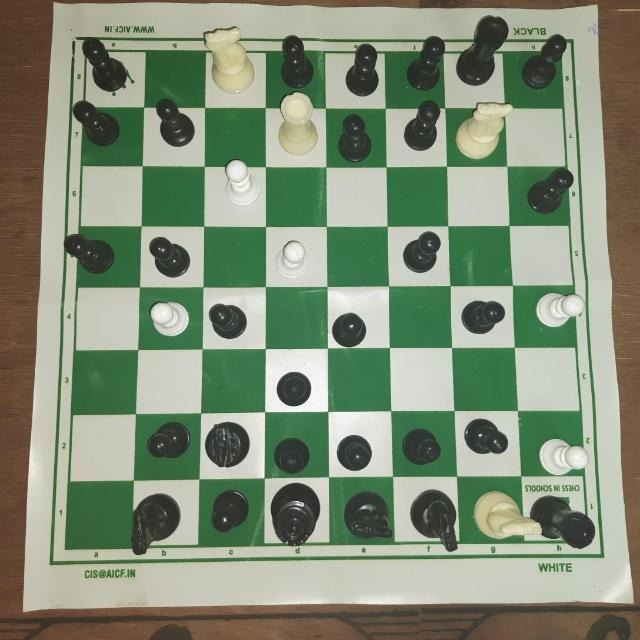black-knight: (124, 492, 182, 555), (407, 488, 462, 552), (343, 490, 397, 542), (203, 420, 250, 467)
black-pawn: (76, 37, 133, 94), (522, 36, 567, 107), (344, 40, 391, 102), (149, 98, 194, 160), (276, 30, 320, 87), (523, 166, 574, 215), (74, 98, 122, 149), (149, 232, 199, 279), (407, 33, 447, 91), (63, 230, 115, 274), (460, 419, 511, 463), (407, 101, 445, 157), (335, 114, 377, 164), (206, 491, 253, 535), (400, 426, 449, 468), (146, 420, 193, 462), (460, 296, 502, 340), (275, 371, 323, 409), (207, 298, 251, 339), (272, 437, 320, 474), (402, 230, 442, 274), (337, 428, 377, 472), (330, 308, 371, 348)
black-queen: (268, 482, 325, 552)
black-rook: (529, 491, 599, 566), (452, 15, 509, 90)
white-knight: (453, 95, 509, 165), (201, 26, 251, 98), (471, 489, 542, 539)
white-pawn: (531, 292, 587, 340), (540, 431, 588, 479), (219, 159, 263, 209), (148, 295, 190, 339), (273, 235, 313, 281)
white-rook: (273, 91, 320, 160)
